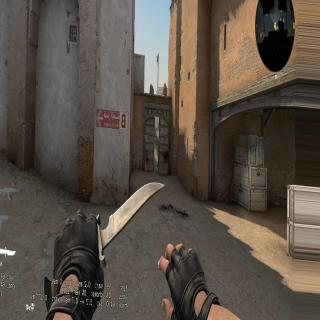CT-Body: (155, 128, 157, 130)
CT-Head: (156, 128, 157, 129)
